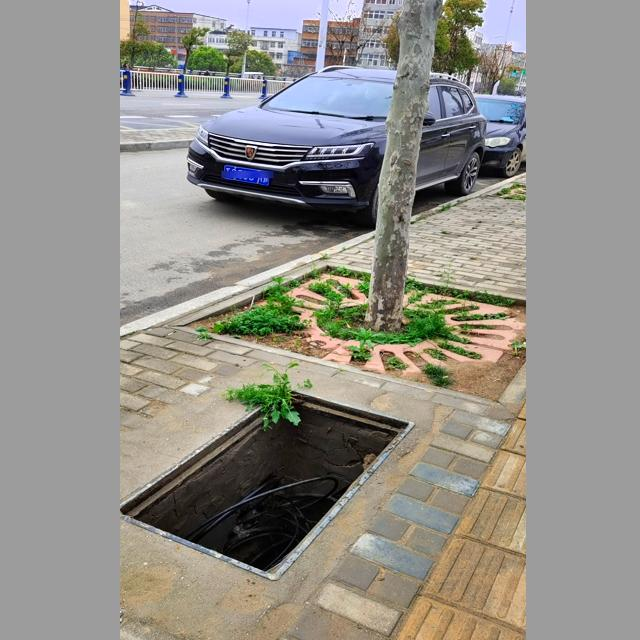lose: (120, 392, 416, 587)
